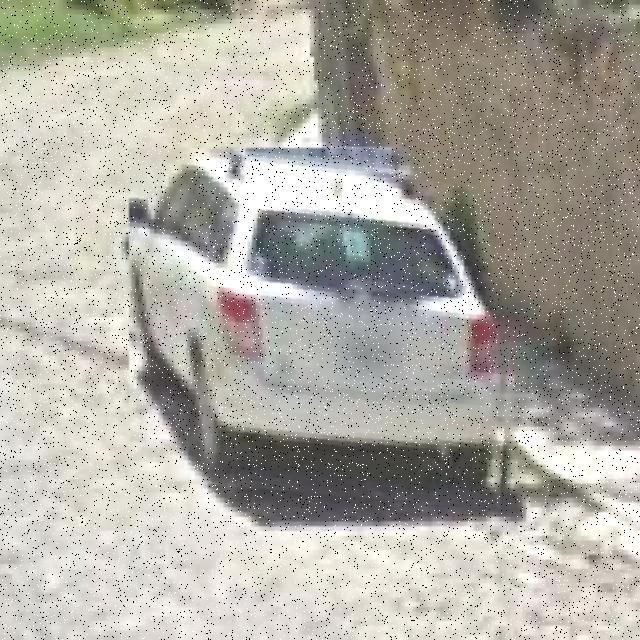car: (130, 149, 522, 511)
